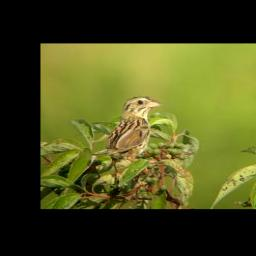Sparrow: (90, 94, 163, 180)
